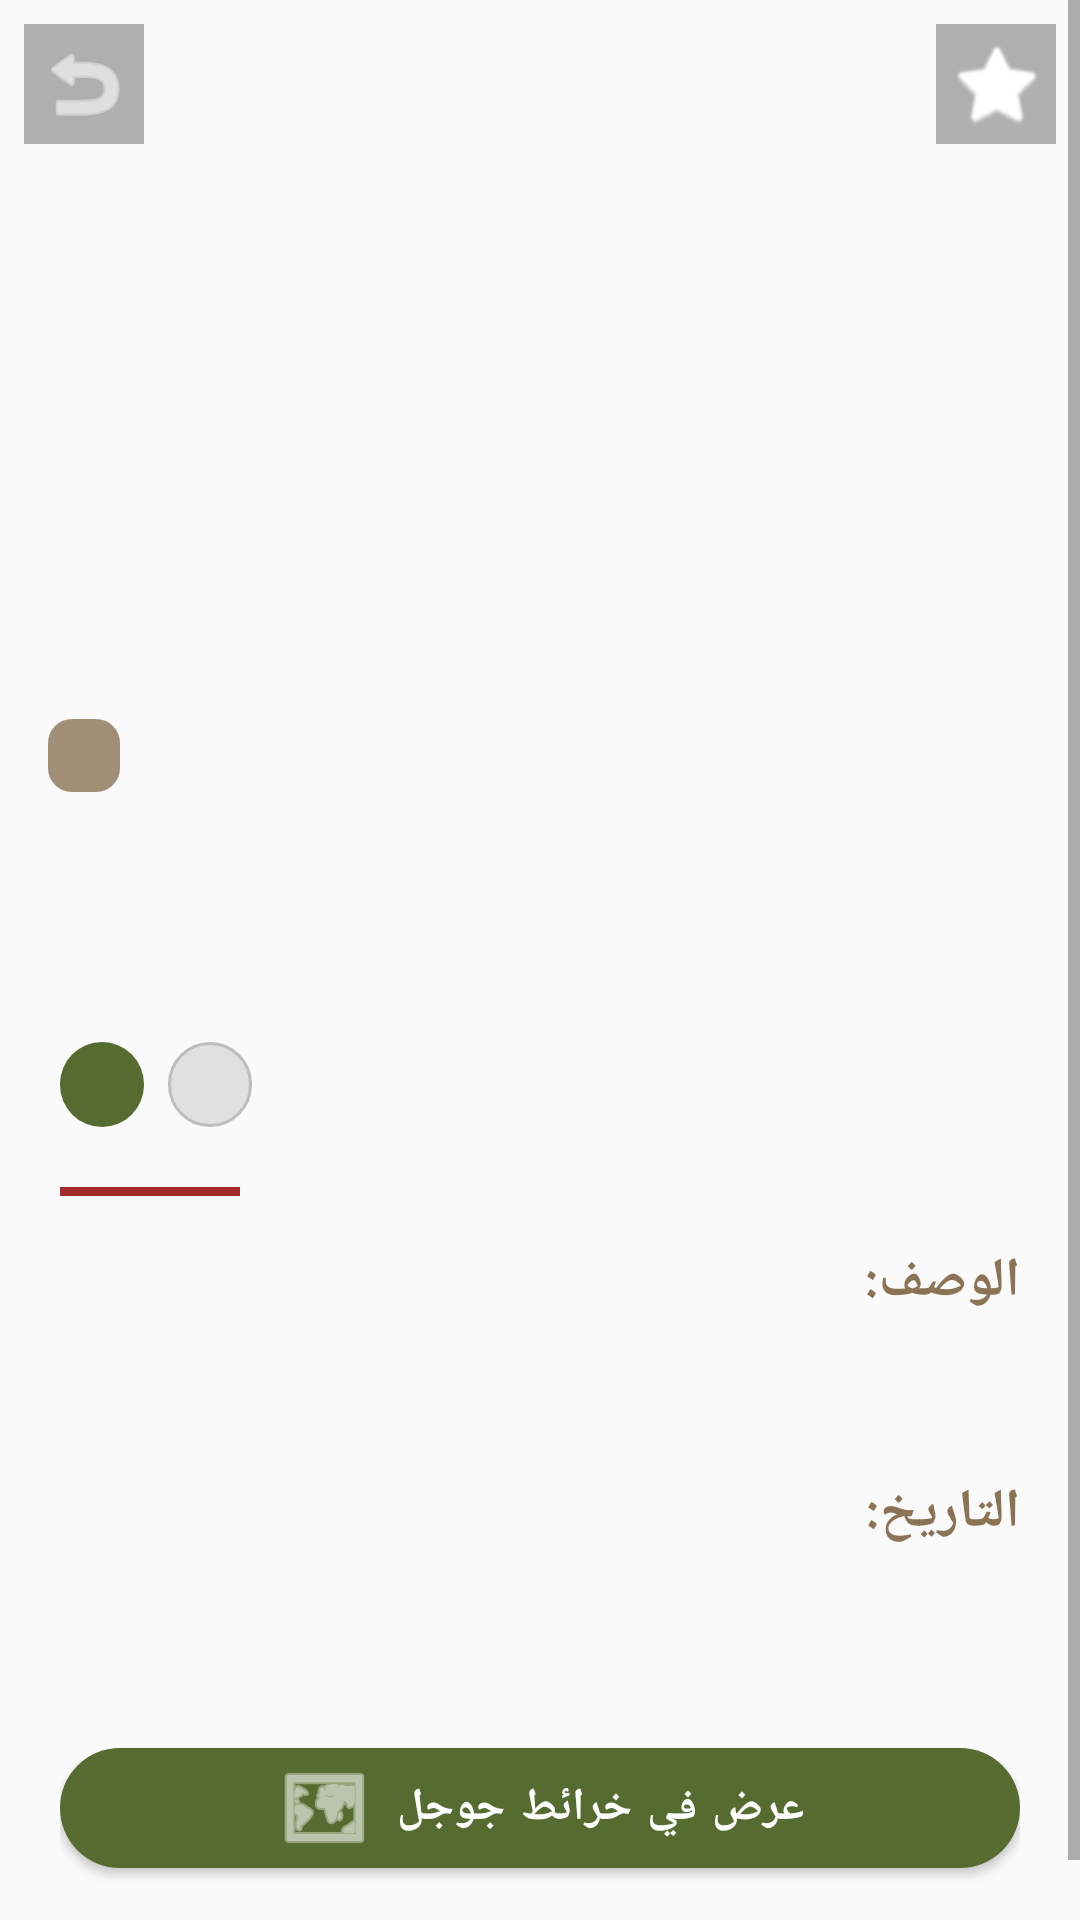

Icon click points for this 1080*1920 phone screenshot, format [x,y]:
المفضلة: [996,84]
رجوع: [84,84]
